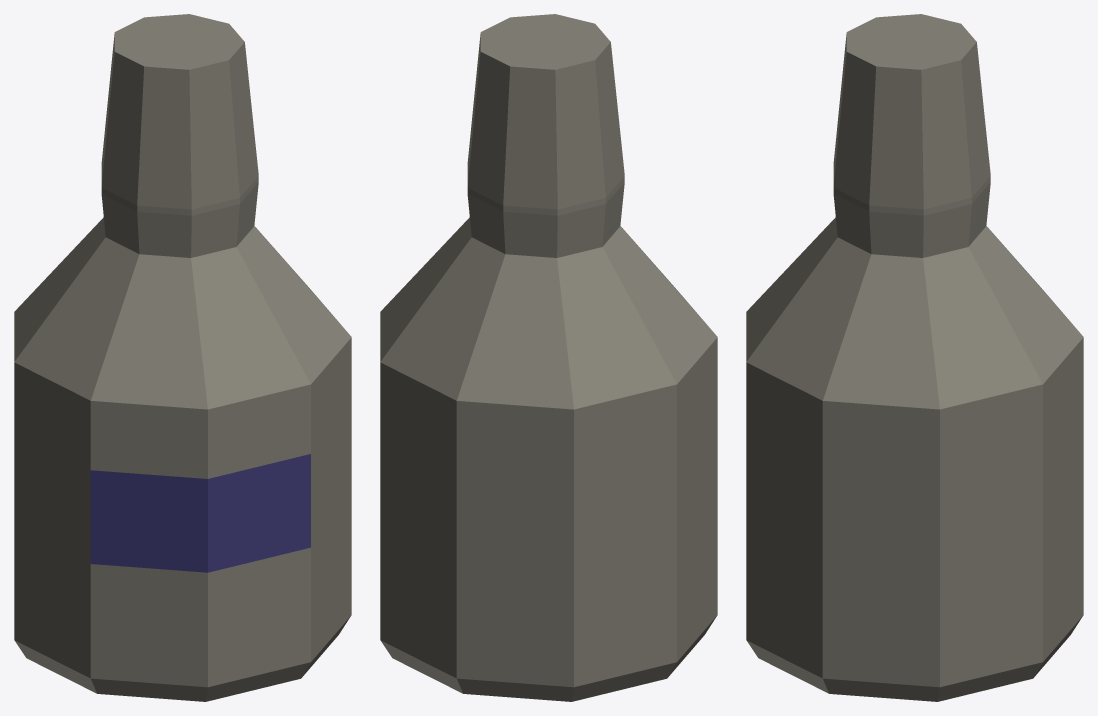
File: collection_basic_short_bottle.glb
3 renders of one model, left to right at view 1: azimuth 30°, elevation 25°; view 2: azimuth 150°, elevation 25°; view 3: azimuth 270°, elevation 25°, orthographic.
Visible parts, largest first — view 1: Cylinder; view 2: Cylinder; view 3: Cylinder.
Part boxes in pixels (x1,y1,x2,y2): Cylinder: (14, 14, 351, 701); Cylinder: (380, 14, 717, 701); Cylinder: (746, 14, 1083, 701).
Size of the model in its own units: 0.1497 by 0.2857 by 0.1474.
